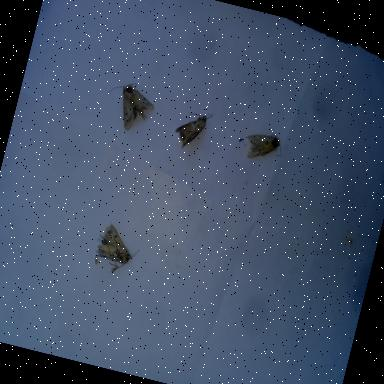abw: (92, 70, 164, 140), (85, 215, 147, 276), (166, 97, 220, 158), (238, 124, 288, 171)
